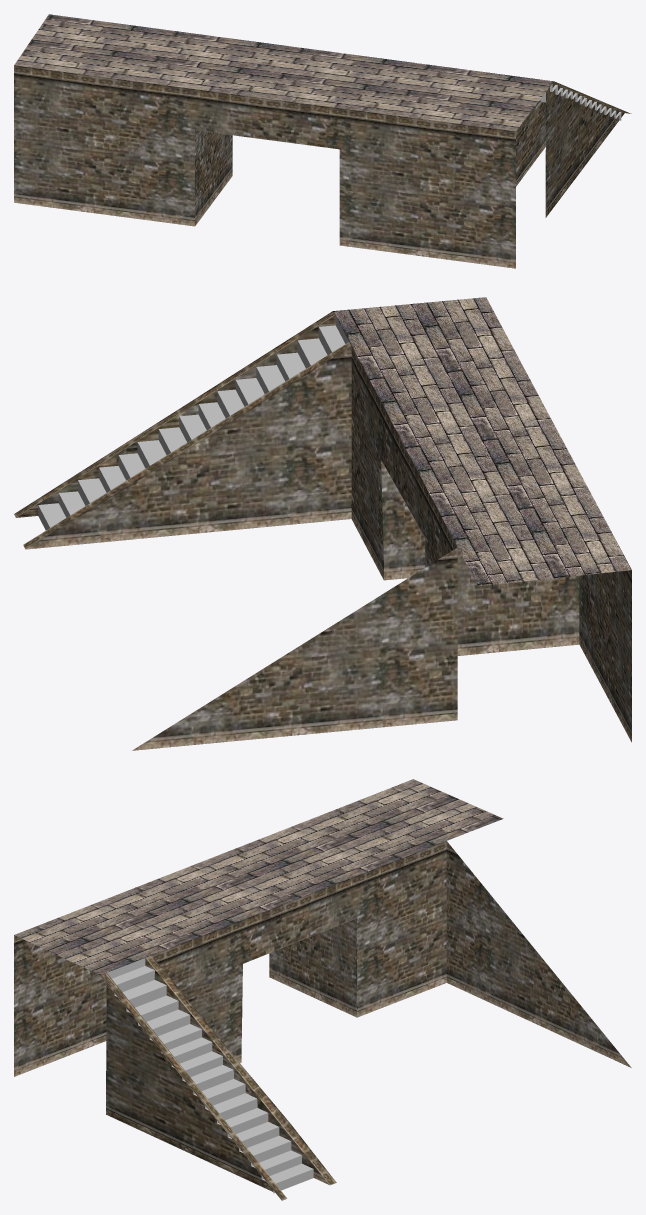
The model's file is tizi05.obj.
3 views of the same model, one above another, from view 1: azimuth 30°, elevation 25°; view 2: azimuth 150°, elevation 25°; view 3: azimuth 270°, elevation 25° (orthographic). The views are drawn at different scales.
Parts seen in each view (by area): view 1: tizi05; view 2: tizi05; view 3: tizi05.
Boxes of the visible parts, x1,y1,x2,y2 form: tizi05: (14, 14, 631, 268); tizi05: (14, 297, 631, 750); tizi05: (14, 779, 631, 1200).
Size of the model in its own units: 422 by 100 by 394.
